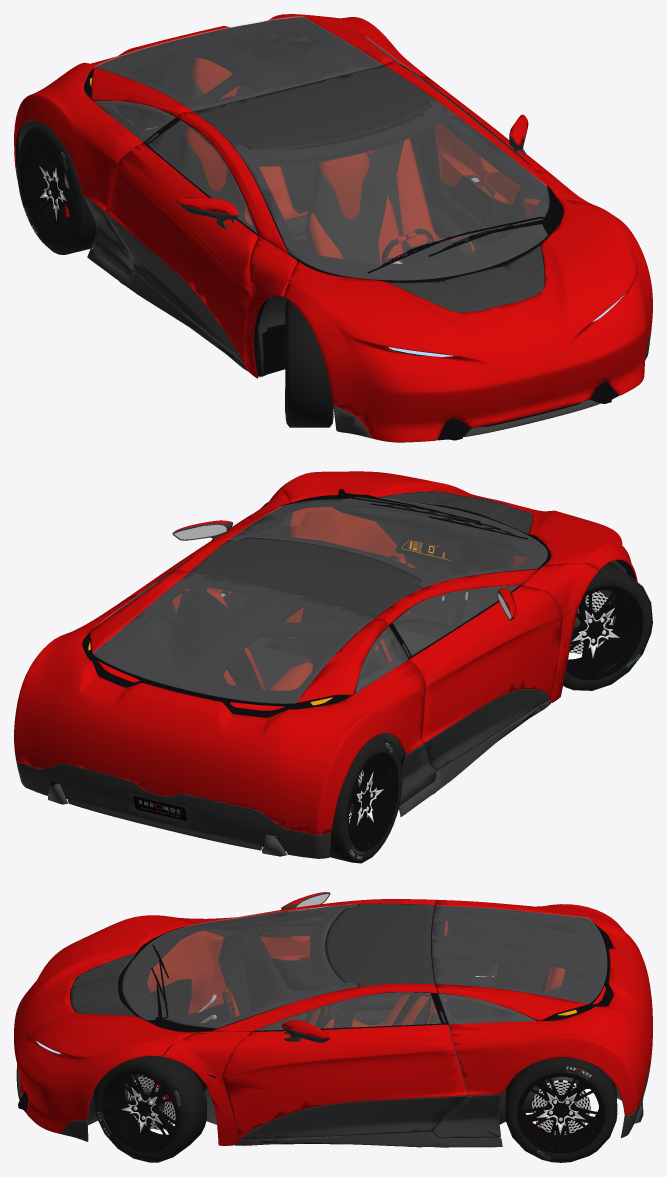
File: carconcept.glb
3 renders of one model, top to bottom at view 1: azimuth 30°, elevation 25°; view 2: azimuth 150°, elevation 25°; view 3: azimuth 270°, elevation 25°, orthographic. The views are drawn at different scales.
Visible parts, largest first — view 1: BodyHood, BodyWindshield, BodyRearwindow, BodyDoorRColor1, BodyRearPanelsColor1, BodyRoofPanel, BodyWindshieldGasket, InteriorSeatsColor1, InteriorSeatsColor2, BodyPillars, InteriorPillar, InteriorRearHatch (+21 smaller); view 2: BodyRearPanelsColor1, BodyRearwindow, BodyWindshield, BodyDoorRColor1, BodyPanelsColor2, BodyRoofPanel, BodyHood, InteriorRearHatch, BodyPillars, InteriorPillar, InteriorDashMid, BodyWindshieldGasket (+23 smaller); view 3: BodyRearPanelsColor1, BodyWindshield, BodyDoorLColor1, BodyHood, BodyRearwindow, BodyRoofPanel, BodyPillars, BodyWindshieldGasket, BodyDoorLColor2, BodyPanelsColor2, InteriorRearHatch, WheelFrontL (+25 smaller).
Boxes of the visible parts, x1,y1,x2,y2 form: BodyHood: (283,198,652,442); BodyWindshield: (234,98,549,280); BodyRearwindow: (95,16,382,110); BodyDoorRColor1: (104,143,257,363); BodyRearPanelsColor1: (14,14,428,210); BodyRoofPanel: (193,65,432,150); BodyWindshieldGasket: (234,99,563,282); InteriorSeatsColor1: (185,57,475,264); InteriorSeatsColor2: (180,78,472,264); BodyPillars: (176,61,597,378); InteriorPillar: (158,37,435,168); InteriorRearHatch: (94,17,383,117); BodyRearPanelsColor1: (14,569,425,834); BodyRearwindow: (92,573,373,703); BodyWindshield: (229,497,547,587); BodyDoorRColor1: (409,585,562,742); BodyPanelsColor2: (16,700,550,858); BodyRoofPanel: (189,537,422,617); BodyHood: (278,471,637,581); InteriorRearHatch: (93,573,384,707); BodyPillars: (175,489,598,702); InteriorPillar: (174,574,417,682); InteriorDashMid: (331,503,525,622); BodyWindshieldGasket: (230,497,550,587); BodyRearPanelsColor1: (436,899,652,1115); BodyWindshield: (122,904,357,1028); BodyDoorLColor1: (222,1024,467,1140); BodyHood: (14,915,196,1133); BodyRearwindow: (432,905,606,1003); BodyRoofPanel: (326,903,434,986); BodyPillars: (163,899,437,1145); BodyWindshieldGasket: (118,905,357,1032); BodyDoorLColor2: (240,1096,467,1140); BodyPanelsColor2: (16,1050,652,1147); InteriorRearHatch: (432,905,606,1020); WheelFrontL: (93,1054,206,1162).
Size of the model in its own units: 2.54 by 1.15 by 4.36.
23 materials, 6 textured.
